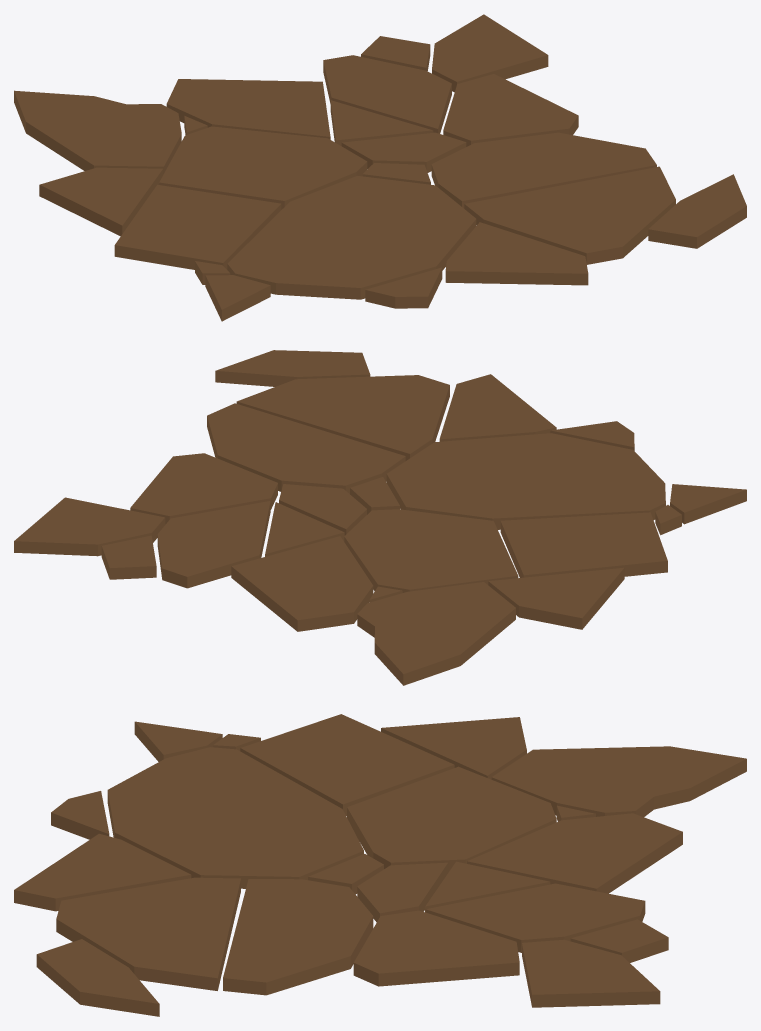
File: ground-cracked.glb
The picture shows the model from 3 angles, top to bottom: view 1: azimuth 30°, elevation 25°; view 2: azimuth 150°, elevation 25°; view 3: azimuth 270°, elevation 25°; orthographic projection. The views are drawn at different scales.
Parts seen in each view (by area): view 1: ground-cracked; view 2: ground-cracked; view 3: ground-cracked.
Part boxes in pixels (x1,y1,x2,y2): ground-cracked: [14, 14, 746, 321]; ground-cracked: [14, 350, 746, 685]; ground-cracked: [14, 714, 746, 1016].
Size of the model in its own units: 4.66 by 0.0969 by 4.98.
Materials: 1 (1 with a texture image).
